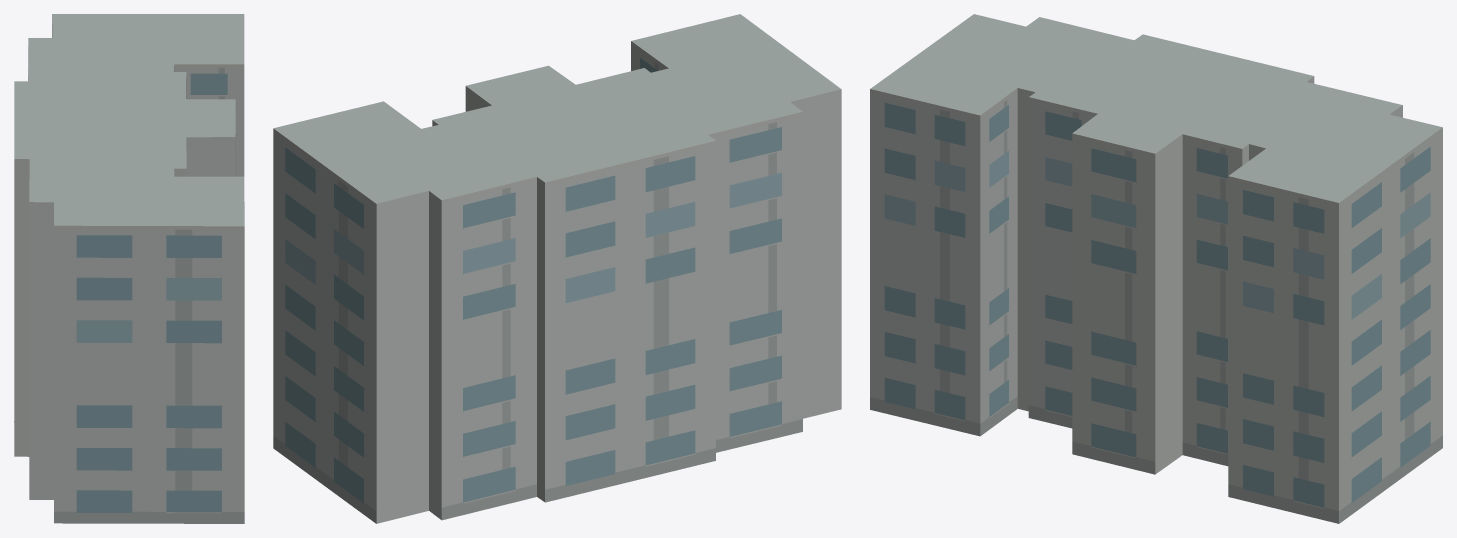
The model's file is survey-upis-32875891.glb.
3 views of the same model, side by side, from view 1: azimuth 30°, elevation 25°; view 2: azimuth 150°, elevation 25°; view 3: azimuth 270°, elevation 25° (orthographic). The views are drawn at different scales.
Visible parts, largest first — view 1: survey-upis-32875891.tmp; view 2: survey-upis-32875891.tmp; view 3: survey-upis-32875891.tmp.
Part boxes in pixels (x1,y1,x2,y2): survey-upis-32875891.tmp: (14,14,244,523); survey-upis-32875891.tmp: (273,14,841,523); survey-upis-32875891.tmp: (870,14,1442,523).
Bounding box in the file's own units: 25.66 × 20.3 × 32.85.
